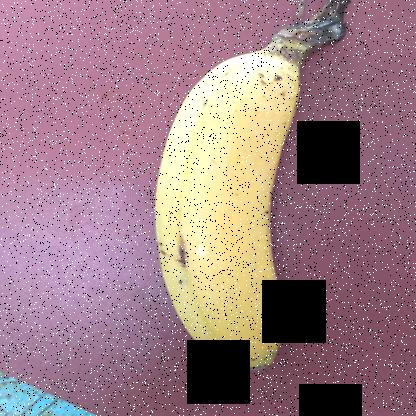freshripe: (133, 57, 342, 380)
